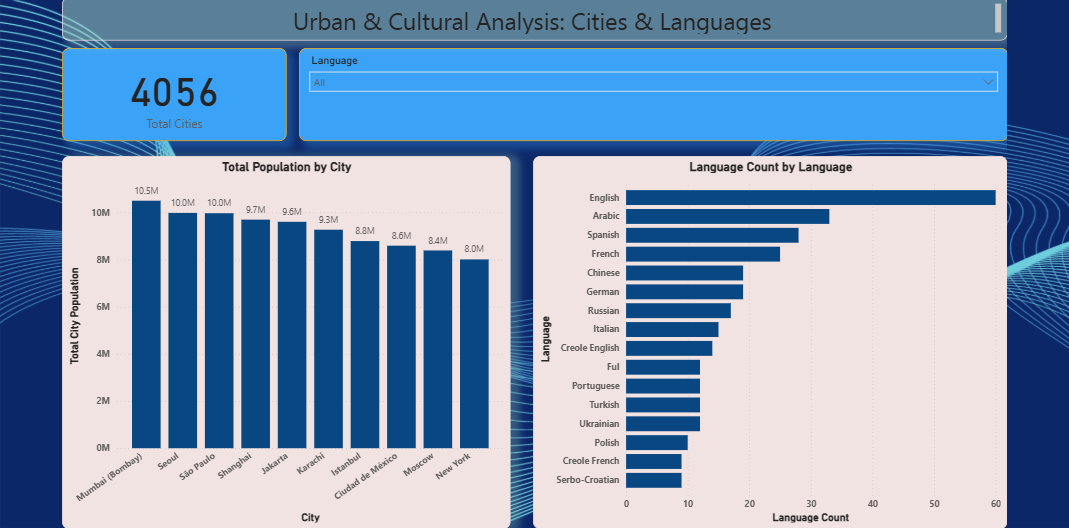

Layout of this report page (visuals, bound fields, positions):
{"tool":"powerbi","page":{"name":"Cultural Dashboard","canvas":[1280,720],"ordinal":2},"visuals":[{"type":"barChart","fields":{"Category":["country-language.Language"],"Y":["Key Measure.Language Count"]},"box":[637.7,214.5,642.1,505.5],"z":0},{"type":"slicer","fields":{"Values":["country-language.Language"]},"box":[320.3,69.1,959.5,126.4],"z":1000},{"type":"card","fields":{"Values":["Key Measure.Total Cities"]},"box":[0,69.1,304.2,126.4],"z":2000},{"type":"clusteredColumnChart","title":"Total Population by  City","fields":{"Category":["city.Name"],"Y":["Key Measure.Total City Population"]},"box":[0,214.5,606.9,505.5],"z":3000},{"type":"textbox","box":[0,0,1279.8,58.8],"z":4000}]}

Visuals, with their boxes on the page's 1280x720 design canvas (x1, y1, x2, y2). These are canvas units, not pixel positions in the 1069x528 screenshot, which may show the page scaled, cropped or inside an application window:
barChart - country-language.Language x Key Measure.Language Count: (left=638, top=214, right=1280, bottom=720)
slicer - country-language.Language: (left=320, top=69, right=1280, bottom=196)
card - Key Measure.Total Cities: (left=0, top=69, right=304, bottom=196)
"Total Population by  City" clusteredColumnChart: (left=0, top=214, right=607, bottom=720)
textbox: (left=0, top=0, right=1280, bottom=59)
